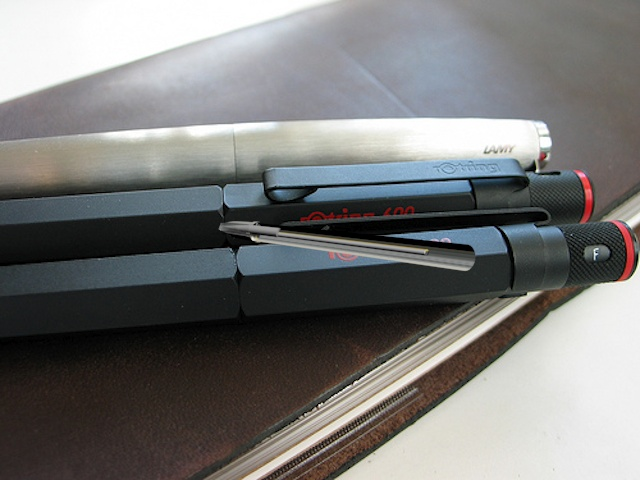pen: (217, 217, 480, 273)
